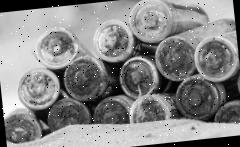electronic: (123, 0, 211, 49)
